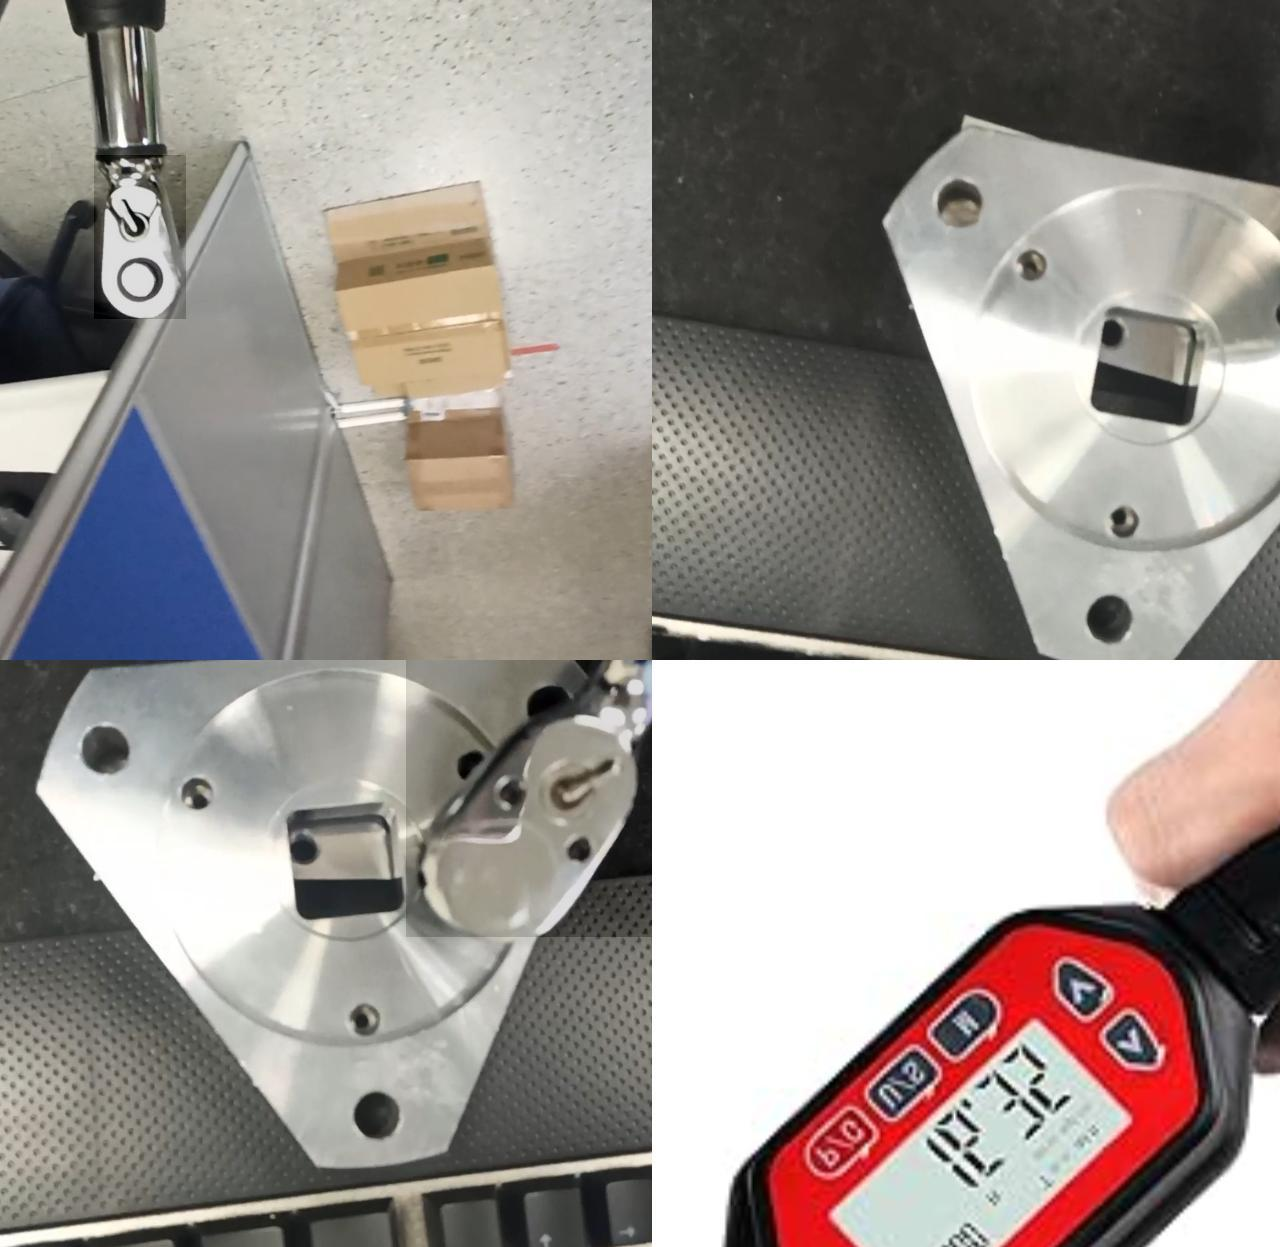Tool: (406, 660, 651, 937), (94, 155, 186, 319)
